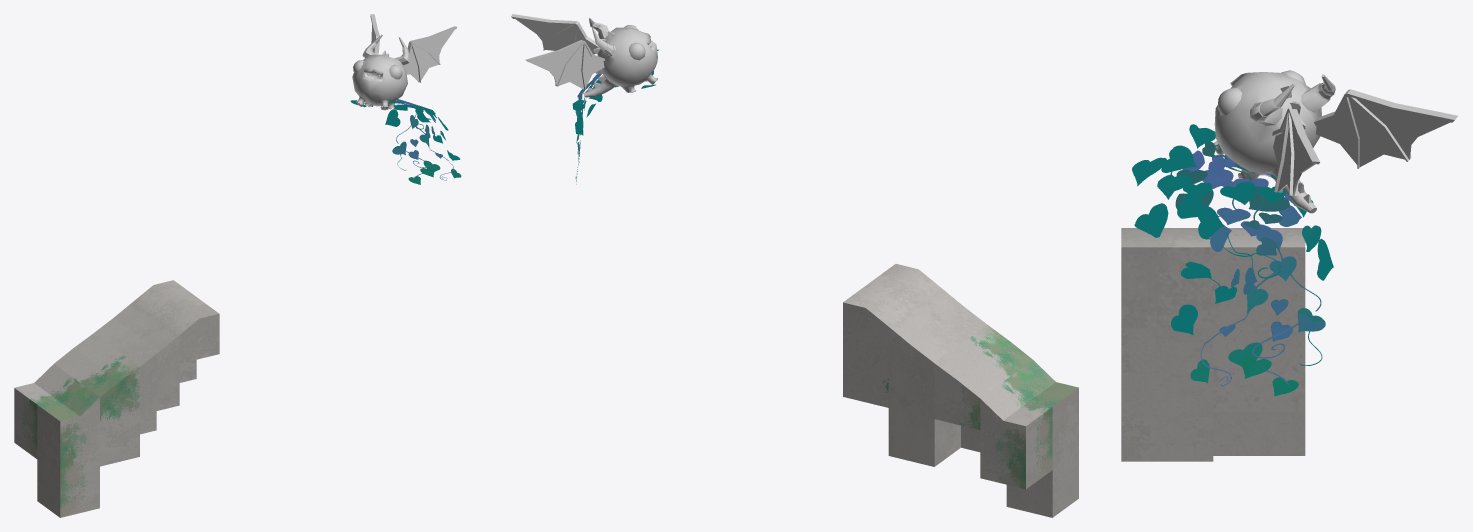
File: bridge_00.FBX
3 renders of one model, left to right at view 1: azimuth 30°, elevation 25°; view 2: azimuth 150°, elevation 25°; view 3: azimuth 270°, elevation 25°, orthographic. The views are drawn at different scales.
Visible parts, largest first — view 1: bridge_01, bridge_01_ncl1_3, bridge_01_ncl1_2, Eyes, bridge_01_ncl1_1, Ending001; view 2: bridge_01, bridge_01_ncl1_2, Eyes, bridge_01_ncl1_1, bridge_01_ncl1_3, Ending001; view 3: bridge_01_ncl1_1, Eyes, Ending001, bridge_01_ncl1_2, bridge_01, bridge_01_ncl1_3.
Boxes of the visible parts, left/top/right/bottom form: bridge_01: left=14, top=364, right=99, bottom=517; bridge_01_ncl1_3: left=54, top=333, right=139, bottom=466; bridge_01_ncl1_2: left=94, top=301, right=179, bottom=434; Eyes: left=352, top=14, right=456, bottom=110; bridge_01_ncl1_1: left=134, top=280, right=219, bottom=382; Ending001: left=350, top=99, right=461, bottom=184; bridge_01: left=980, top=360, right=1078, bottom=517; bridge_01_ncl1_2: left=888, top=288, right=986, bottom=466; Eyes: left=511, top=14, right=657, bottom=97; bridge_01_ncl1_1: left=843, top=264, right=940, bottom=407; bridge_01_ncl1_3: left=934, top=324, right=1032, bottom=452; Ending001: left=572, top=49, right=658, bottom=184; bridge_01_ncl1_1: left=1121, top=228, right=1305, bottom=411; Eyes: left=1213, top=70, right=1458, bottom=213; Ending001: left=1132, top=124, right=1333, bottom=396; bridge_01_ncl1_2: left=1121, top=328, right=1305, bottom=455; bridge_01: left=1121, top=417, right=1213, bottom=461; bridge_01_ncl1_3: left=1121, top=372, right=1213, bottom=416.
Size of the model in its own units: 3687 by 2820 by 1260.
